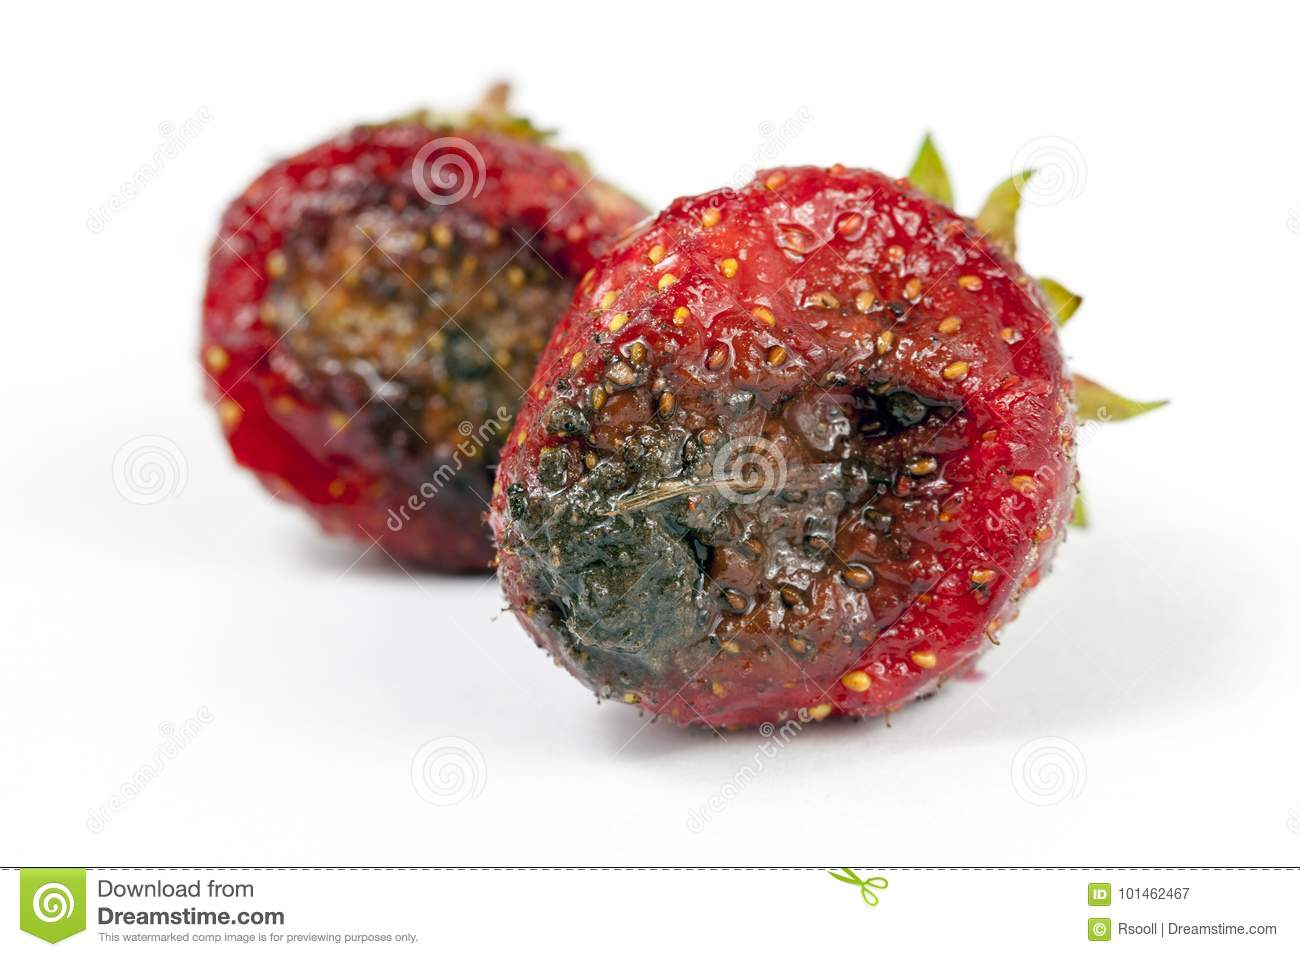damaged_strawberry: (522, 168, 1027, 726), (188, 112, 605, 570)
